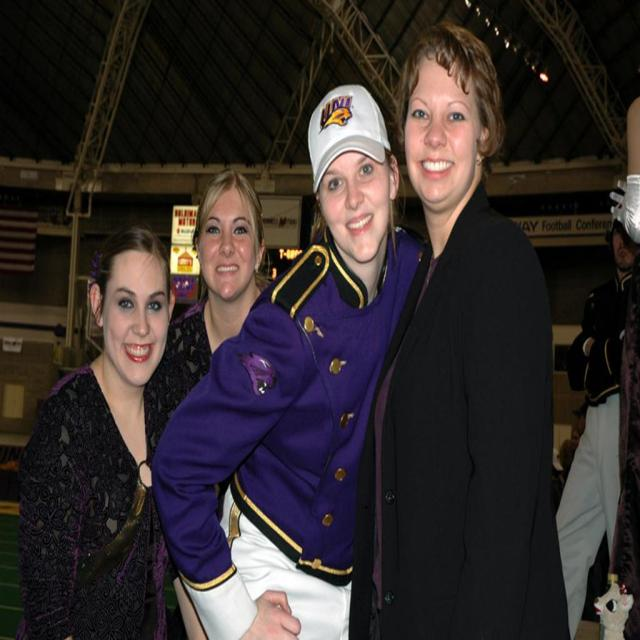Face: (402, 60, 487, 200), (313, 119, 394, 259), (109, 248, 180, 391), (196, 199, 264, 292)
